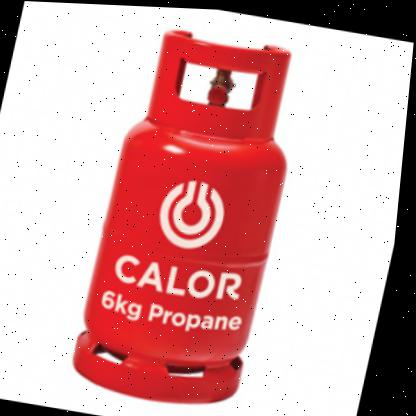gas-tank: (53, 6, 335, 415)
